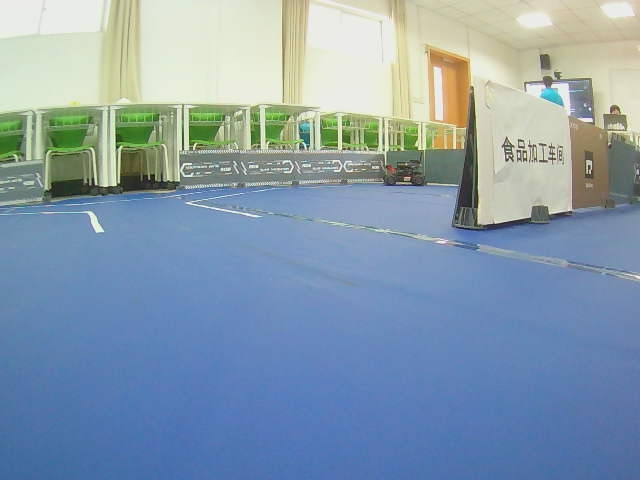target: (500, 134, 565, 166)
